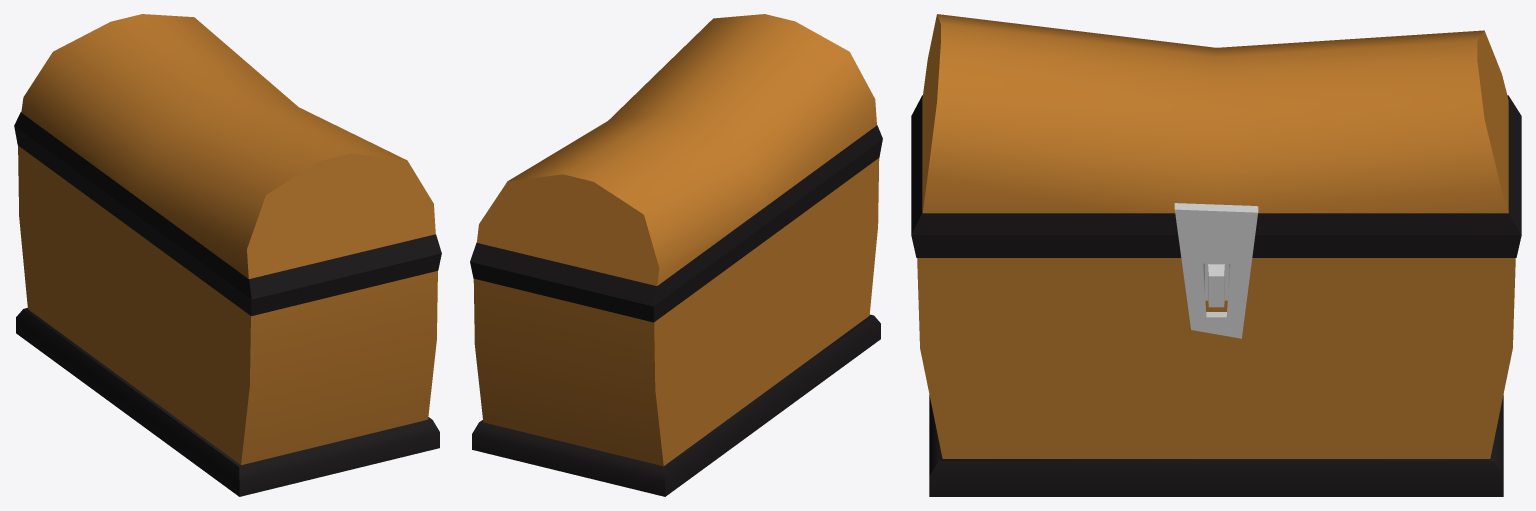
Rendered from chest kitchen room.fbx.
The picture shows the model from 3 angles, left to right: view 1: azimuth 30°, elevation 25°; view 2: azimuth 150°, elevation 25°; view 3: azimuth 270°, elevation 25°; orthographic projection. The views are drawn at different scales.
Parts seen in each view (by area): view 1: chest kitchen room, chest kitchen room.001; view 2: chest kitchen room, chest kitchen room.001; view 3: chest kitchen room, chest kitchen room.001.
Boxes of the visible parts, x1,y1,x2,y2 form: chest kitchen room: [14, 126, 441, 496]; chest kitchen room.001: [14, 14, 441, 299]; chest kitchen room: [470, 139, 882, 496]; chest kitchen room.001: [470, 14, 882, 306]; chest kitchen room: [911, 235, 1521, 496]; chest kitchen room.001: [911, 14, 1521, 338].
Size of the model in its own units: 0.5972 by 0.8263 by 1.14.
